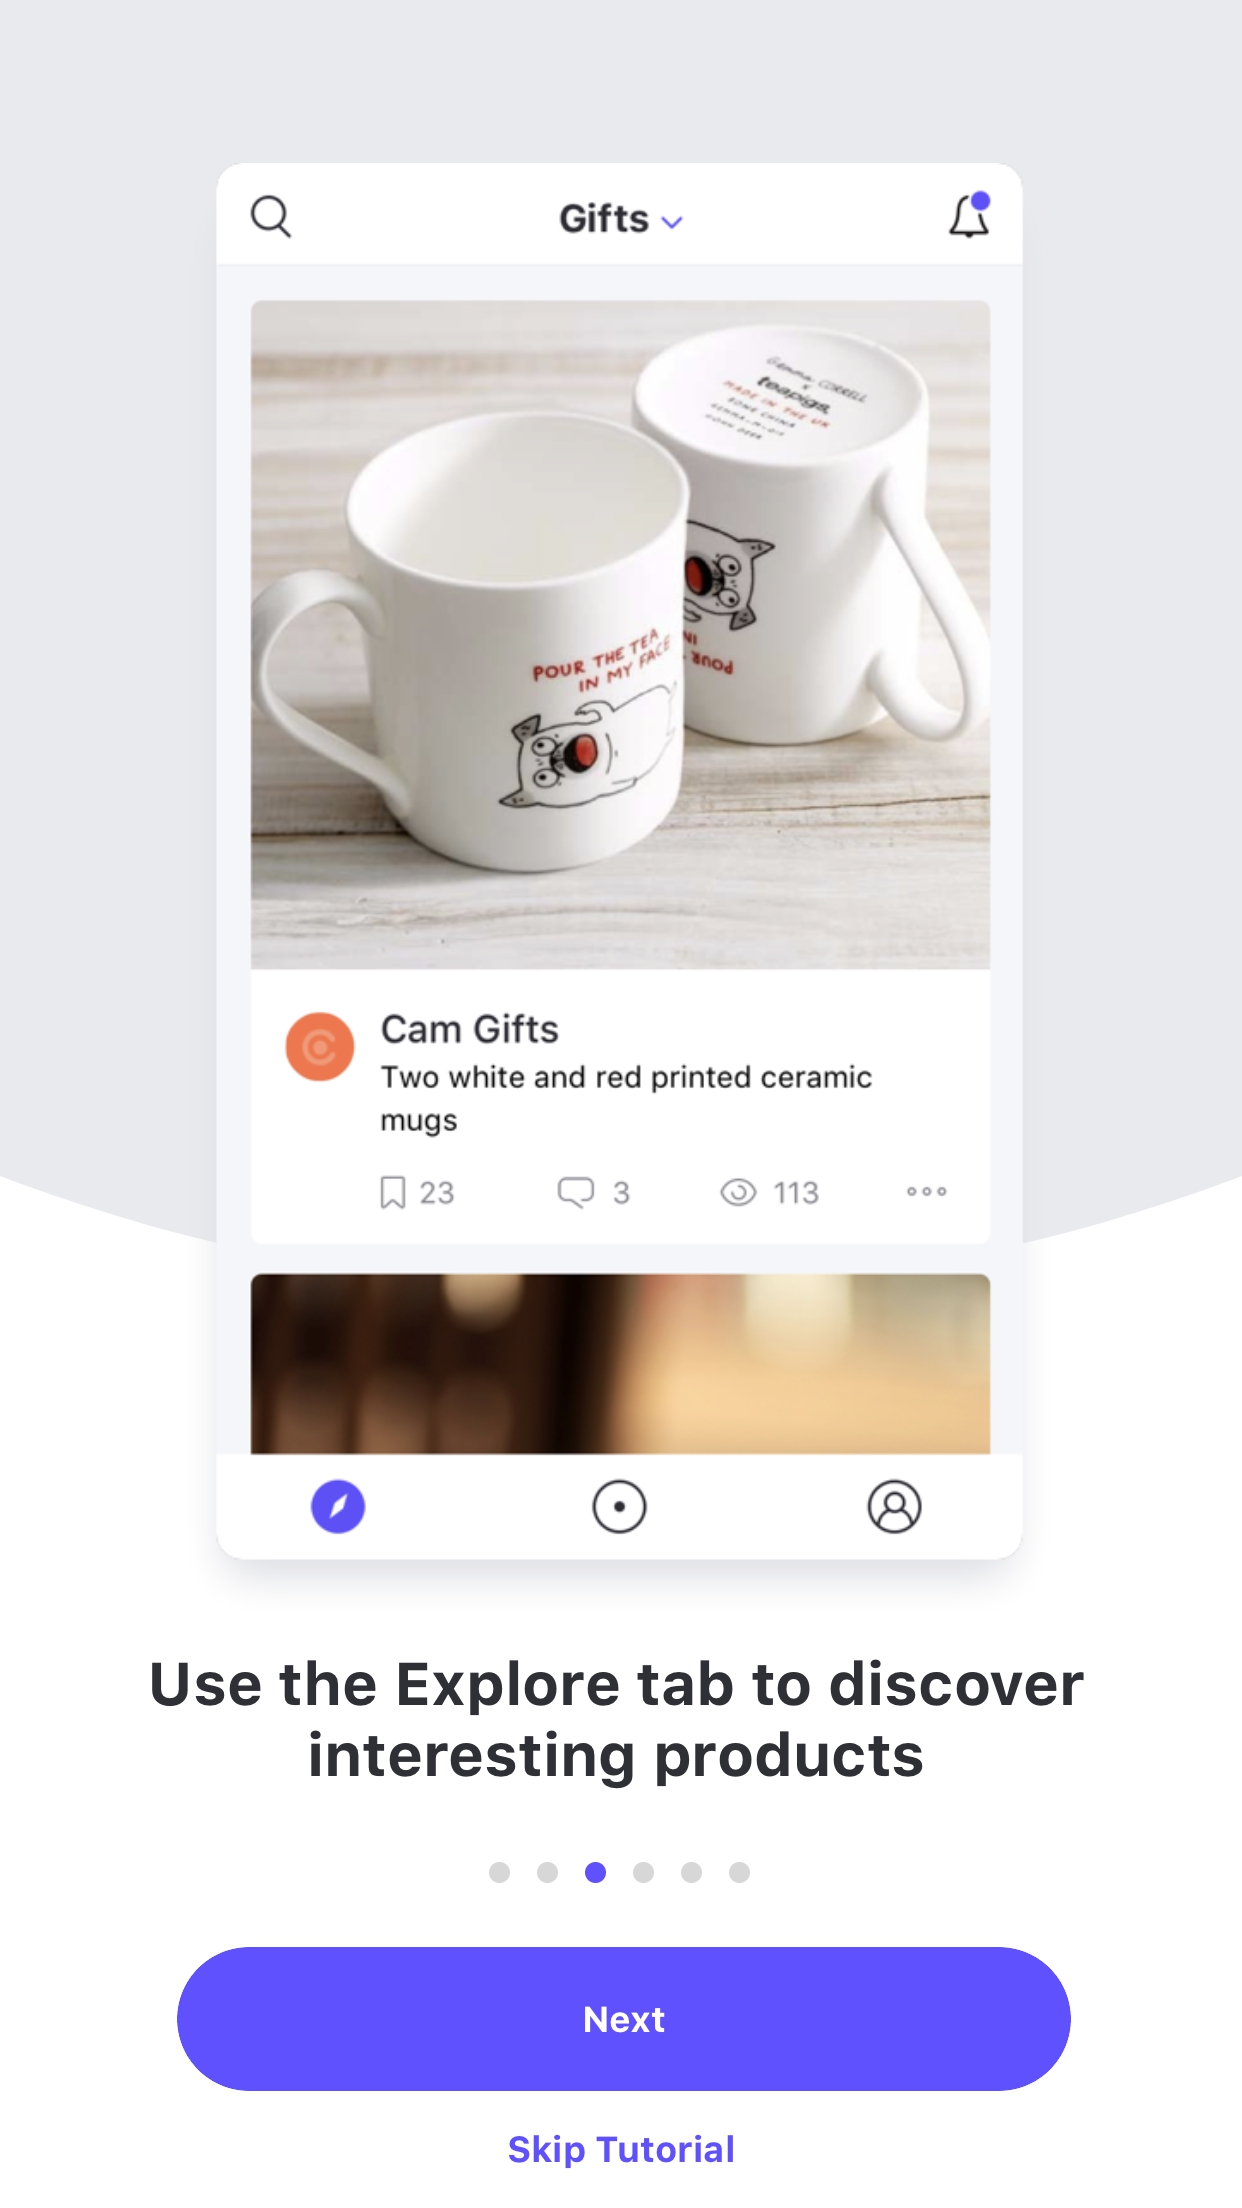Image: (215, 162, 1024, 1560)
PageIndicator: (488, 1861, 751, 1883)
Text: (152, 1658, 1084, 1789), (510, 2134, 732, 2169)
TextButton: (177, 1946, 1071, 2091)
